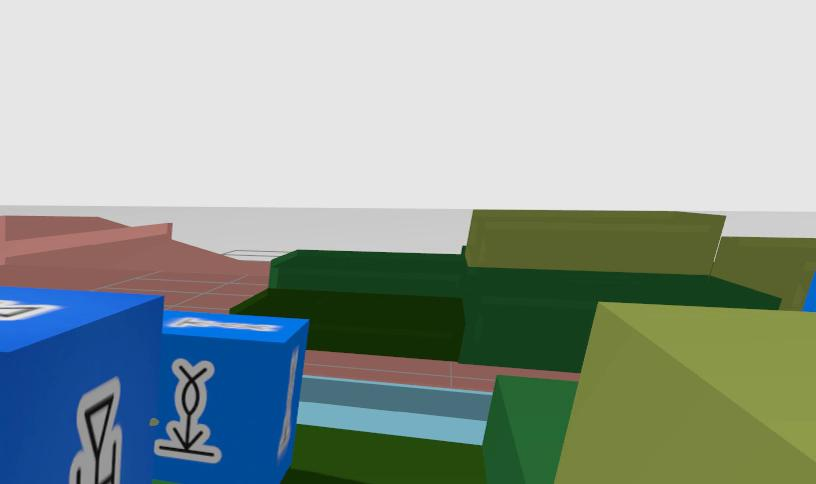KFS_REAL: (0, 287, 161, 484), (151, 310, 307, 484), (155, 358, 219, 462), (69, 378, 122, 484)
